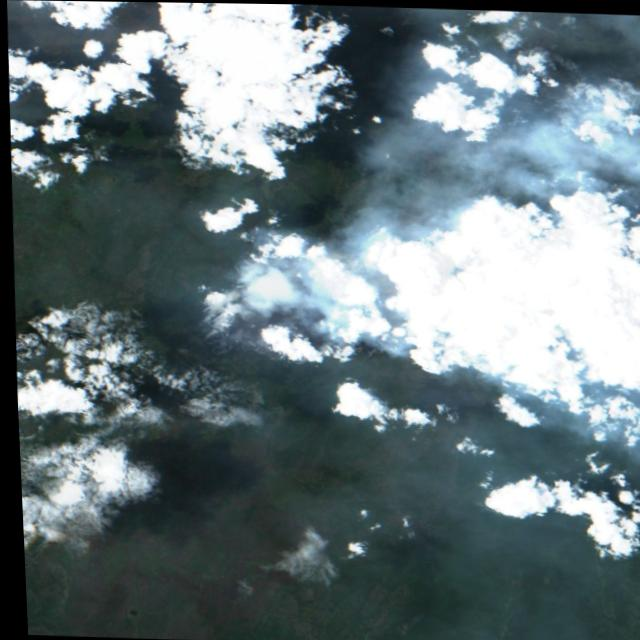fire: (184, 228, 435, 370)
